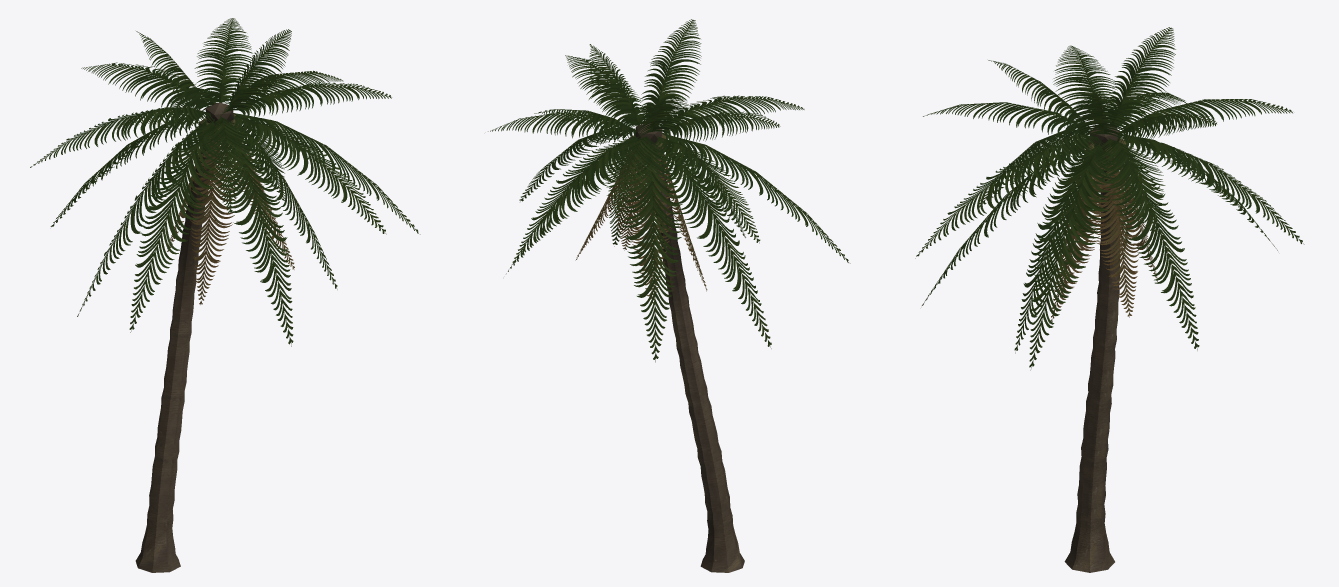
Rendered from palm_coast.glb.
The picture shows the model from 3 angles, left to right: view 1: azimuth 30°, elevation 25°; view 2: azimuth 150°, elevation 25°; view 3: azimuth 270°, elevation 25°; orthographic projection. The views are drawn at different scales.
Parts seen in each view (by area): view 1: palm_coast_palm_fronds, palm_coast_bark_palm, palm_coast_palm_fronds_dry; view 2: palm_coast_palm_fronds, palm_coast_bark_palm, palm_coast_palm_fronds_dry; view 3: palm_coast_palm_fronds, palm_coast_bark_palm, palm_coast_palm_fronds_dry.
Part boxes in pixels (x1=…): palm_coast_palm_fronds: x1=30, y1=18, x2=420, y2=346; palm_coast_bark_palm: x1=135, y1=102, x2=234, y2=572; palm_coast_palm_fronds_dry: x1=167, y1=132, x2=294, y2=304; palm_coast_palm_fronds: x1=488, y1=19, x2=850, y2=362; palm_coast_bark_palm: x1=634, y1=123, x2=744, y2=572; palm_coast_palm_fronds_dry: x1=575, y1=151, x2=707, y2=304; palm_coast_palm_fronds: x1=915, y1=27, x2=1304, y2=370; palm_coast_bark_palm: x1=1064, y1=124, x2=1120, y2=572; palm_coast_palm_fronds_dry: x1=1051, y1=161, x2=1157, y2=321.
Bounding box in the file's own units: 7.61 × 10.25 × 7.45.
Materials: 4 (3 with a texture image).
